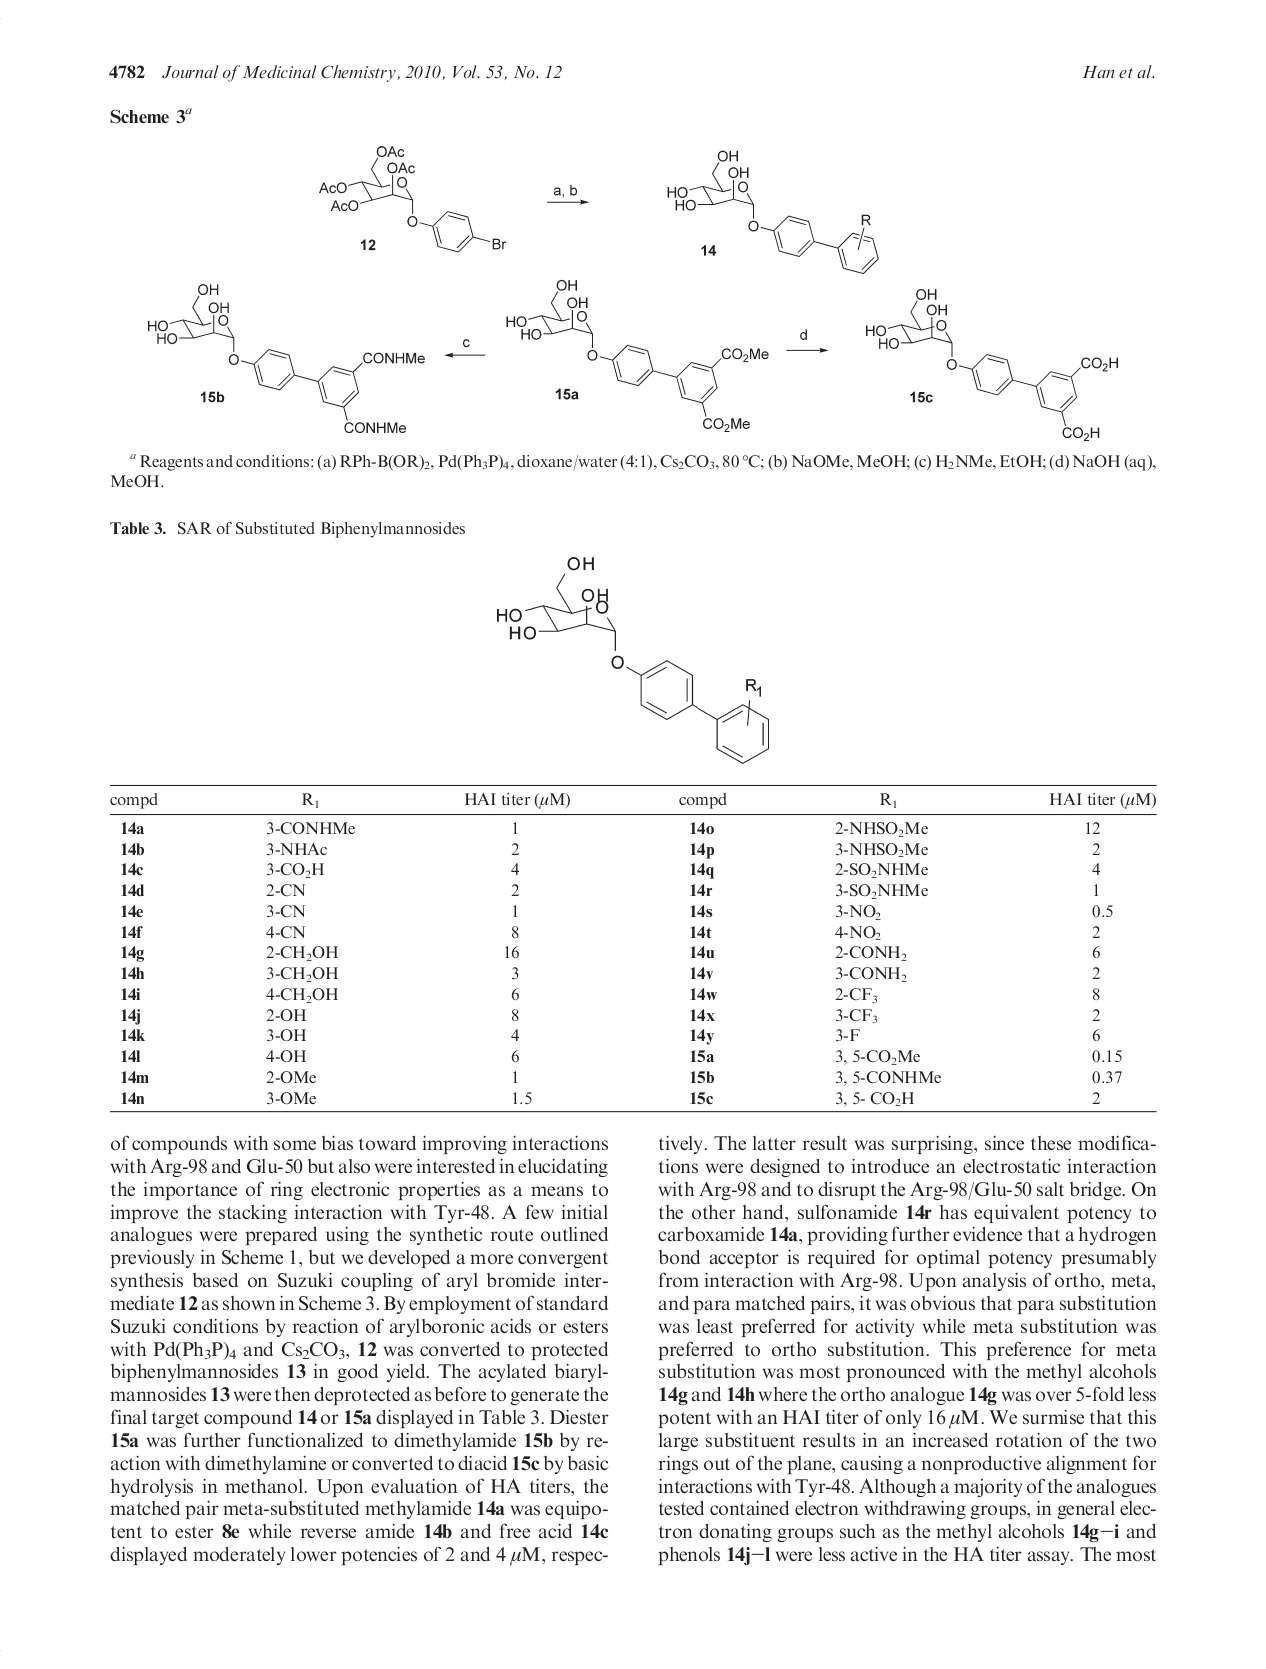exist_molecular: (495, 551, 777, 765), (144, 279, 426, 436), (864, 285, 1124, 444), (504, 278, 771, 432), (665, 148, 880, 277), (313, 140, 508, 255)
